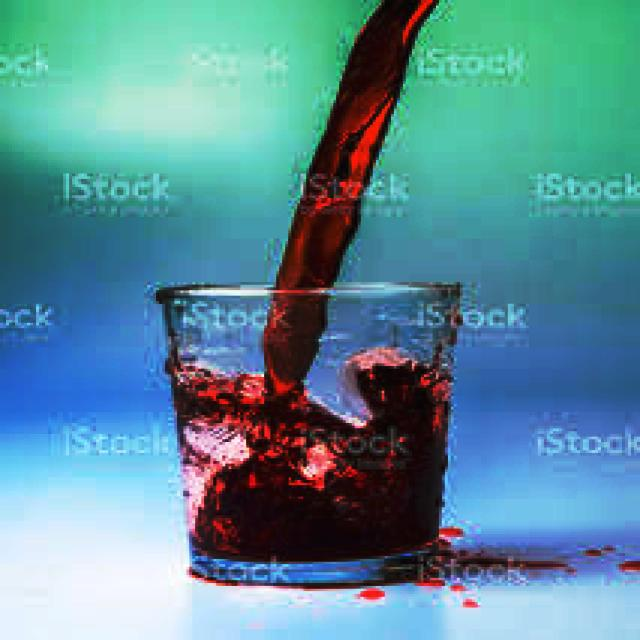drink: (156, 279, 469, 594)
